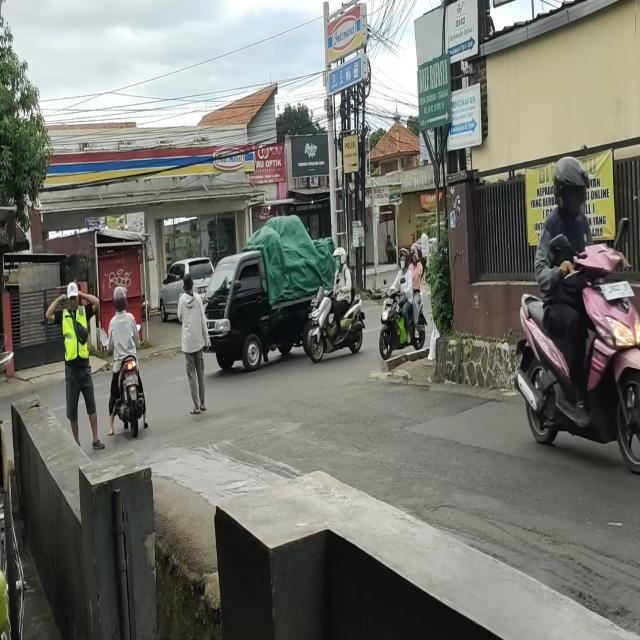helmet: (551, 153, 588, 214), (113, 288, 127, 314), (334, 248, 346, 269), (398, 250, 410, 271), (412, 246, 422, 265)
